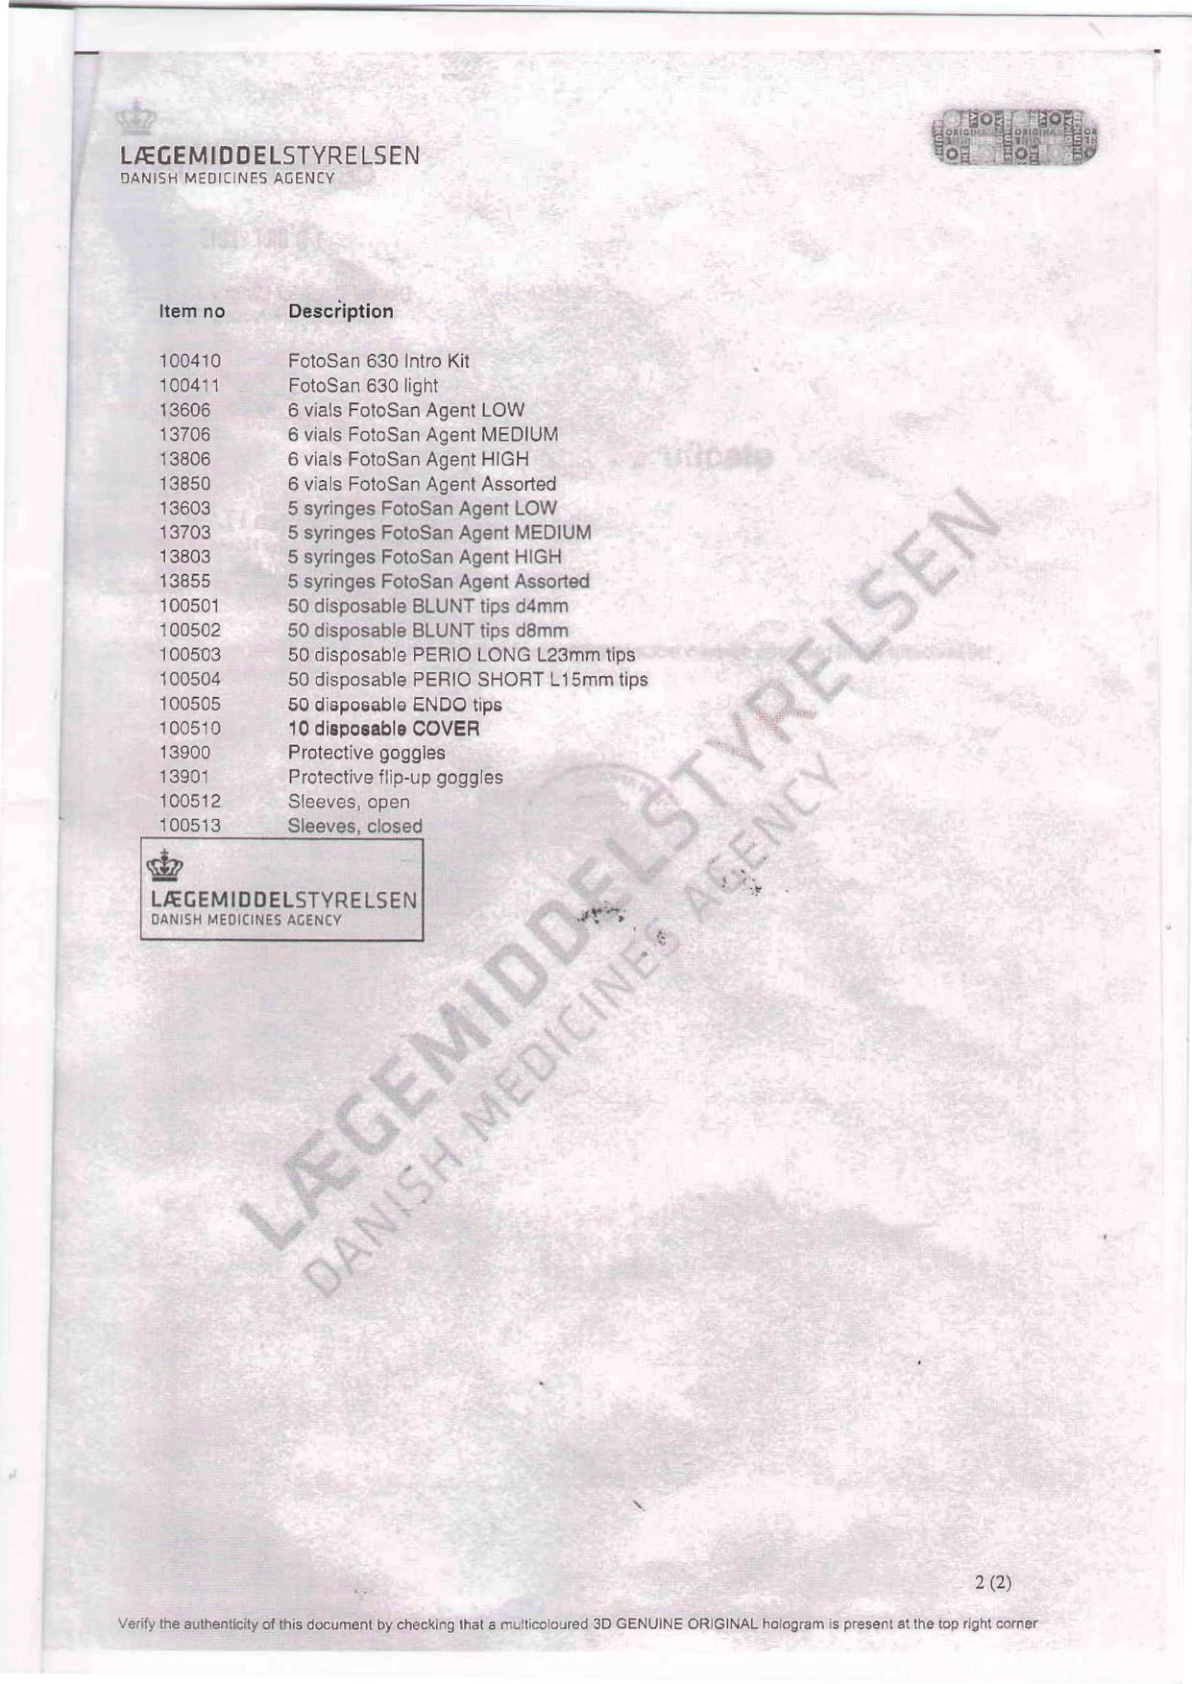nolines: (154, 299, 649, 837)
